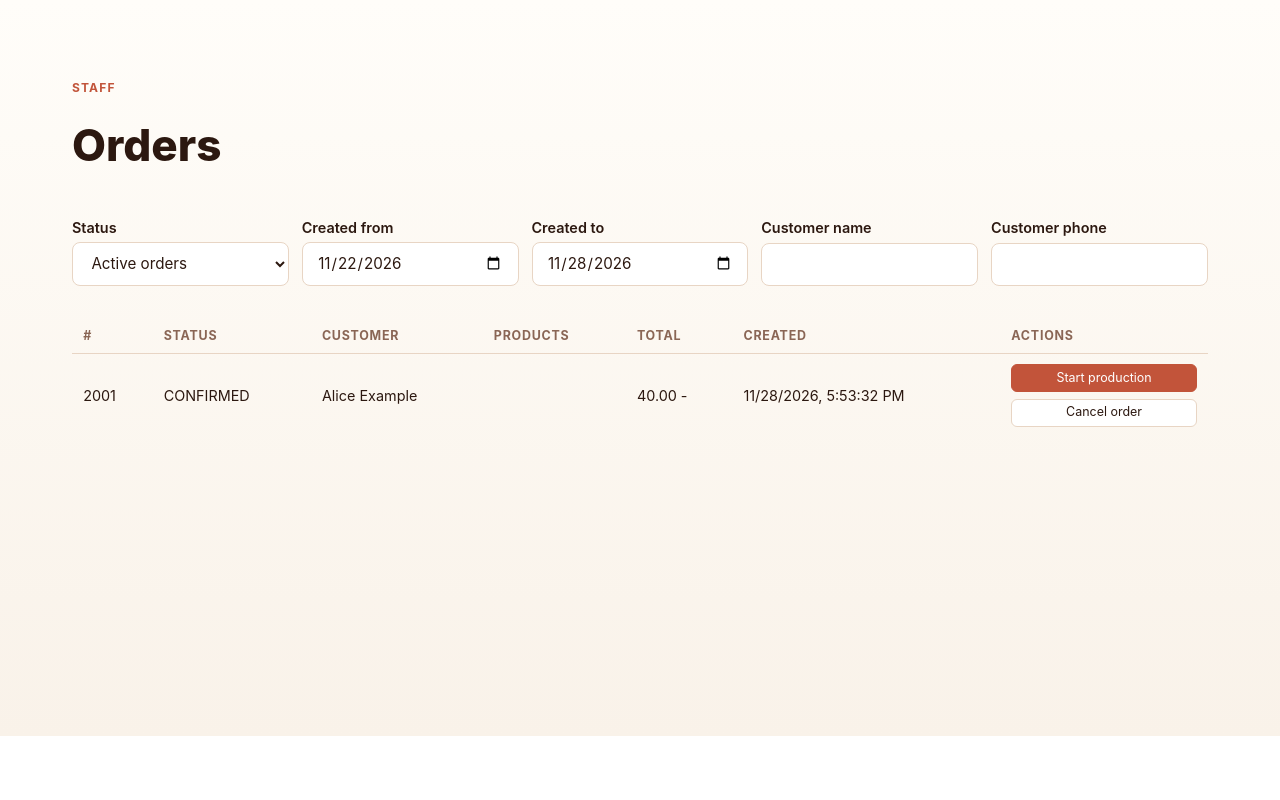
it: StaffOrders › filters active orders by default and supports date, name, and phone filters
Expected: the text "Alice Example" is shown, [311,354,483,437]
Expected: the dropdown labelled "Status" shows "Active orders", [72,242,289,286]
Type "Alice" into the search field labelled "Customer name" at (870, 264), box [761,243,978,286]
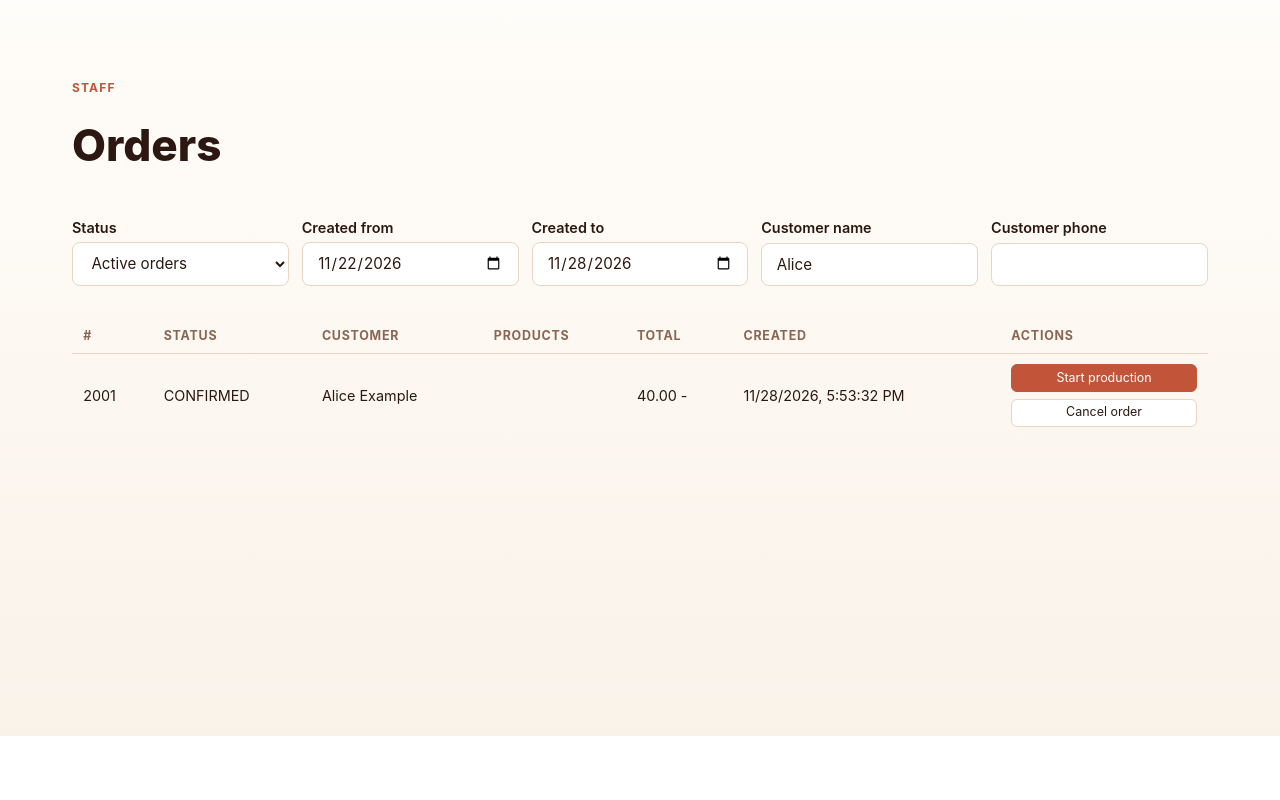
Type "111111" into the search field labelled "Customer phone" at (1100, 264), box [991,243,1208,286]
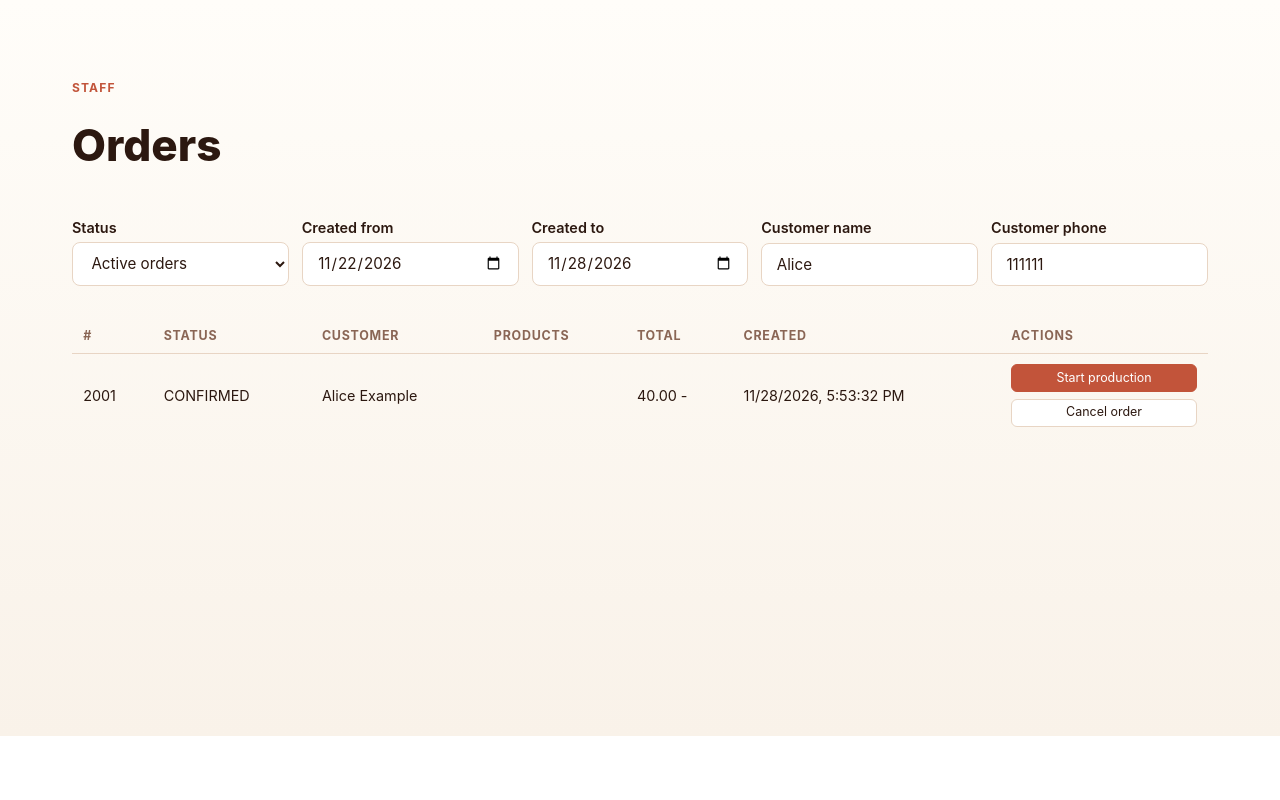
Expected: the text "Alice Example" is shown, [311,354,483,437]
Expected: the text "No orders match the selected filters." is not shown
Click the text "2001" at (640, 395), box [72,354,1208,437]
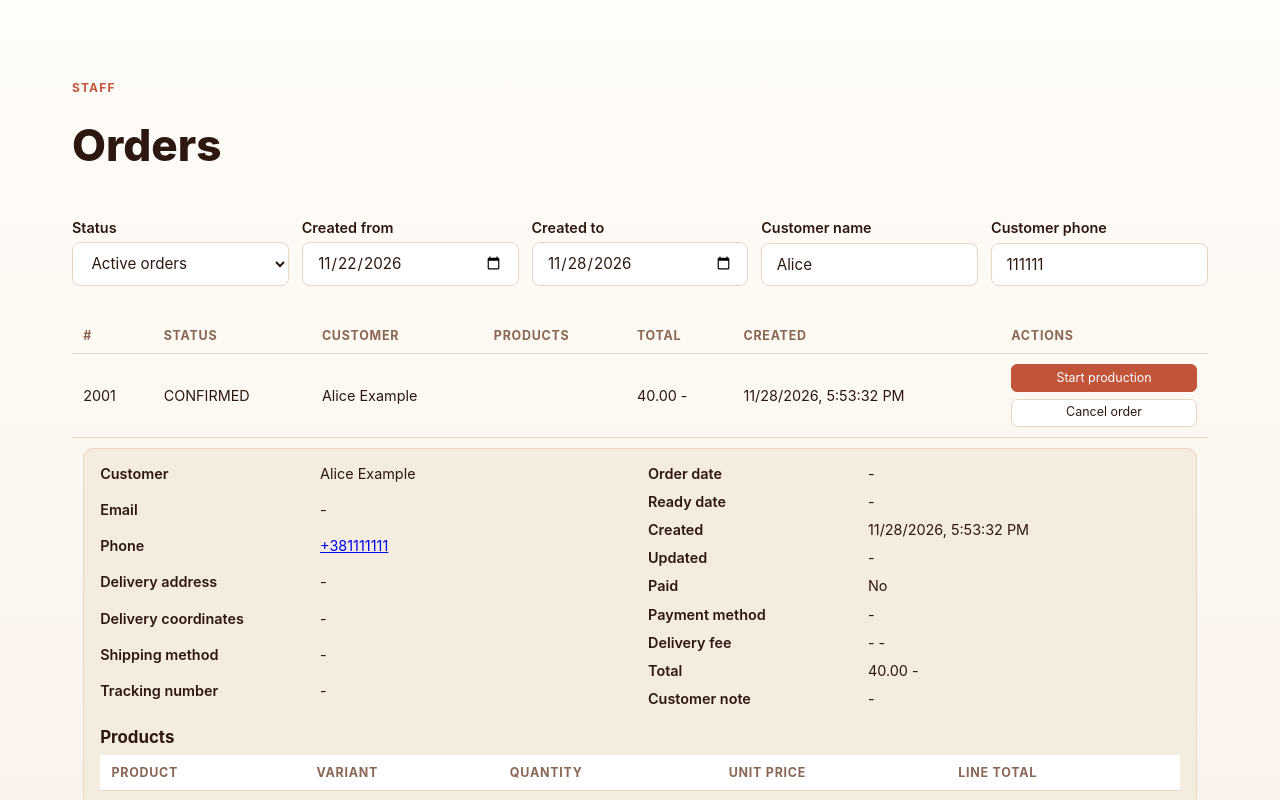
Expected: the text "Customer note" is shown, [648,690,751,707]
Click the text "2001" at (640, 395), box [72,354,1208,437]
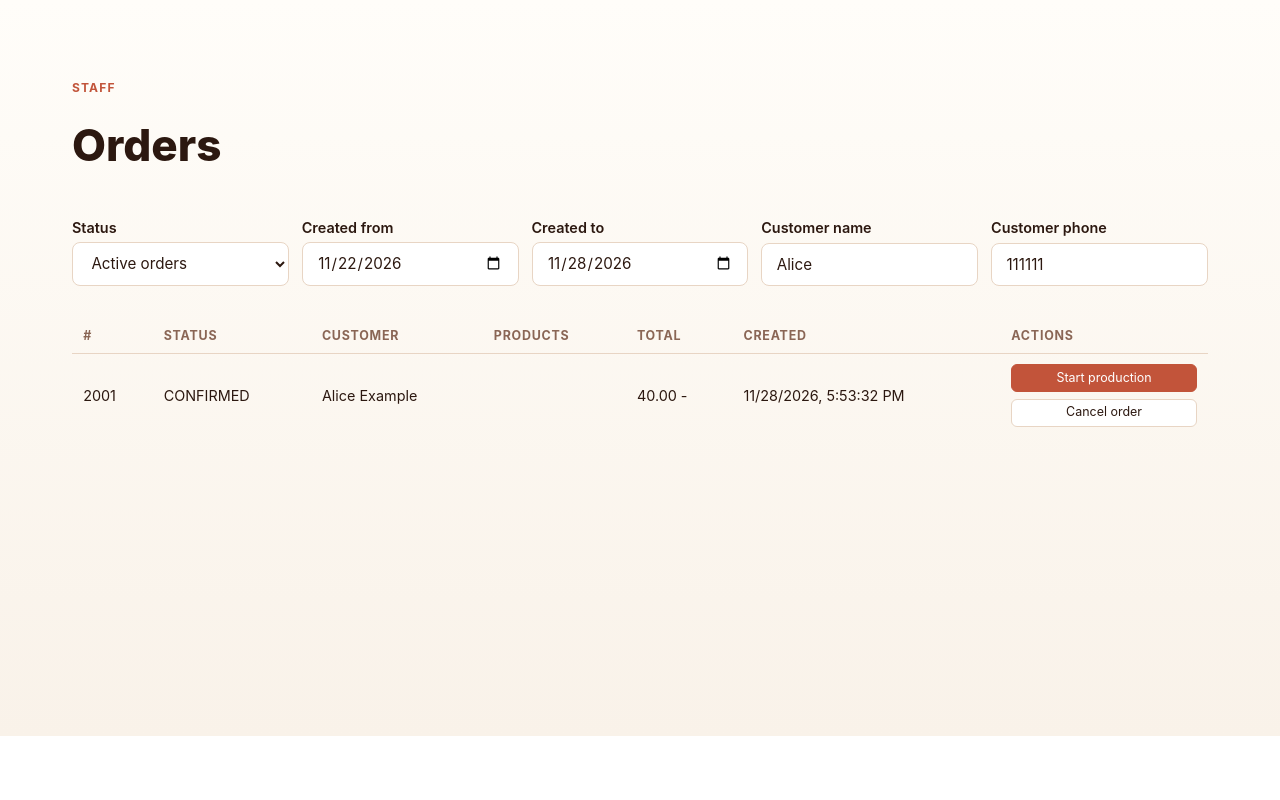
Expected: the text "Customer note" is gone
Replace the text in the search field labelled "Customer phone" with "999999" at (1100, 264), box [991,243,1208,286]
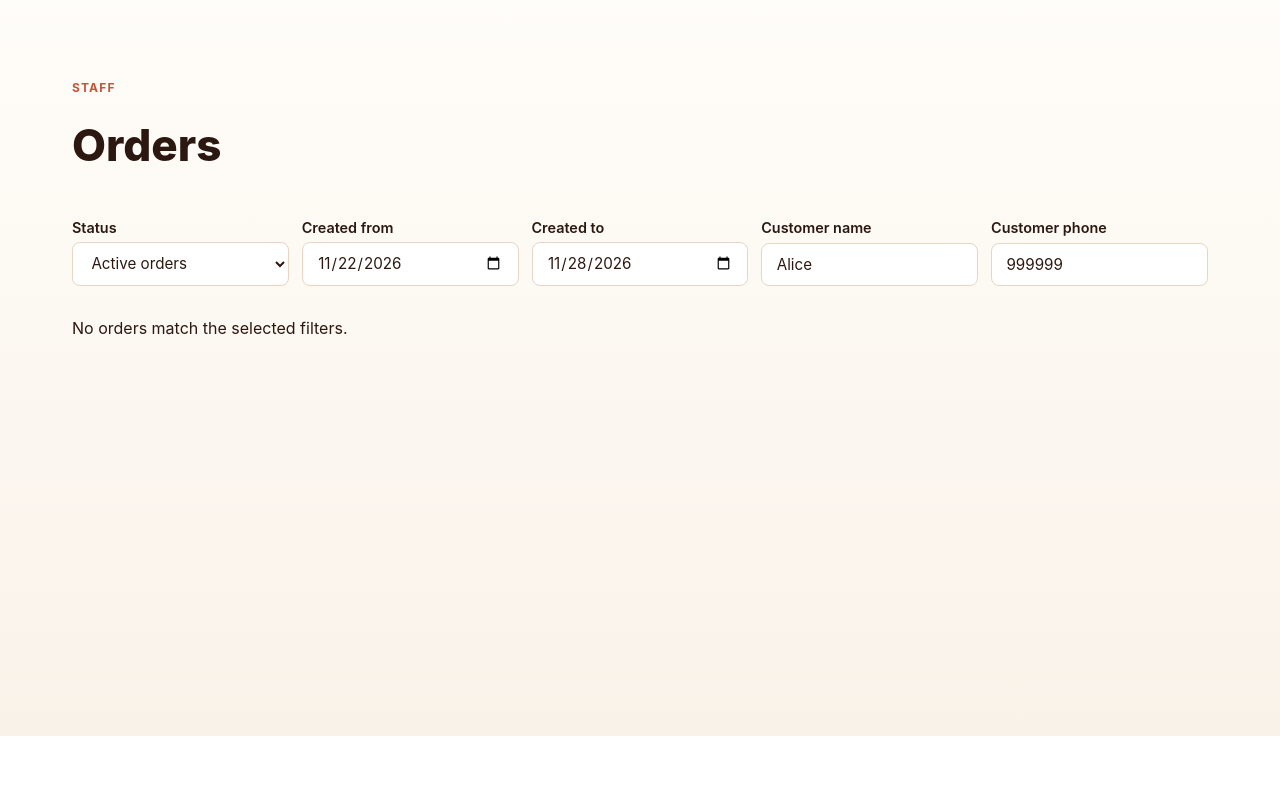
Expected: the text "No orders match the selected filters." is shown, [72,318,348,338]
